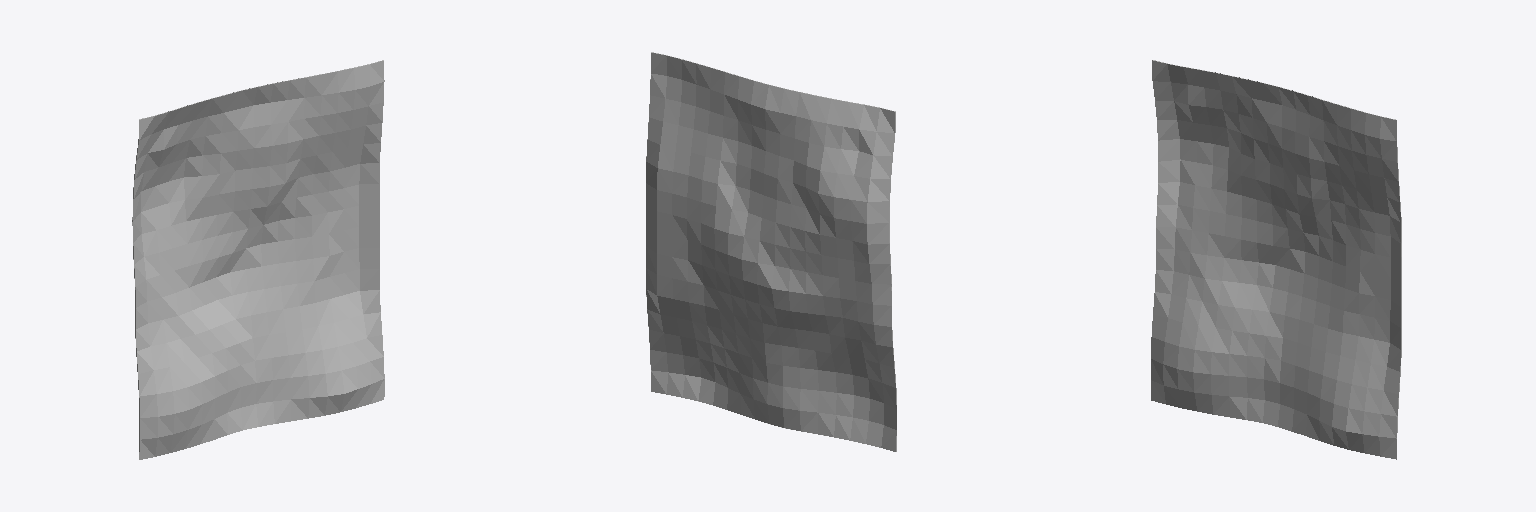
The model's file is safe_hint_paper.obj.
3 views of the same model, side by side, from view 1: azimuth 30°, elevation 25°; view 2: azimuth 150°, elevation 25°; view 3: azimuth 330°, elevation 25° (orthographic).
Parts seen in each view (by area): view 1: teddy_hint; view 2: teddy_hint_safe; view 3: teddy_hint.
Part boxes in pixels (bbox=[...]): teddy_hint: bbox=[132, 60, 384, 459]; teddy_hint_safe: bbox=[646, 53, 896, 451]; teddy_hint: bbox=[1151, 60, 1401, 459].
Bounding box in the file's own units: 10.79 × 14.3 × 1.74.